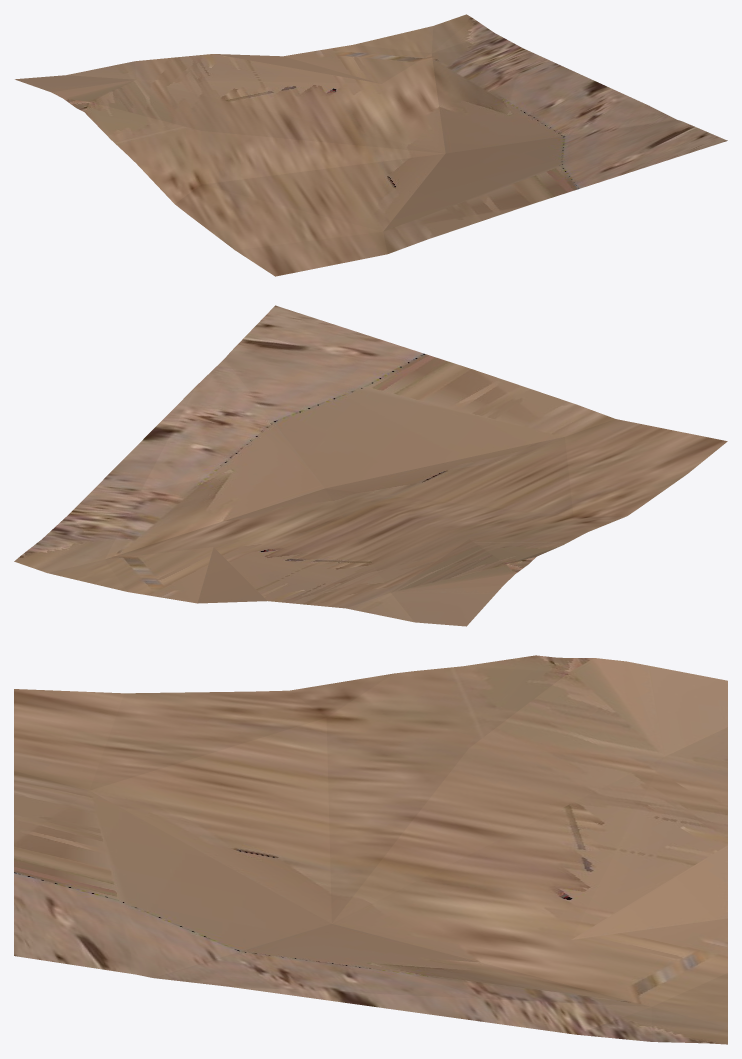
3 renders of one model, top to bottom at view 1: azimuth 30°, elevation 25°; view 2: azimuth 150°, elevation 25°; view 3: azimuth 270°, elevation 25°, orthographic. The views are drawn at different scales.
Size of the model in its own units: 1.04 by 0.1505 by 1.04.
Materials: 3 (3 with a texture image).
